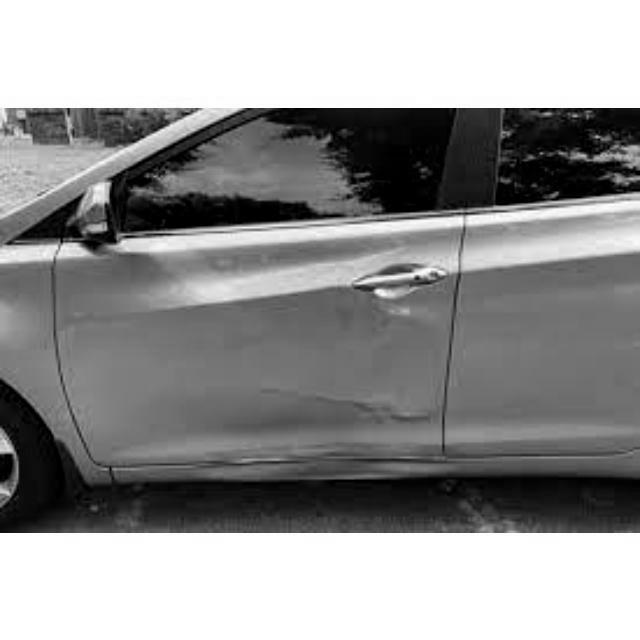Runningboard-Damage: (107, 454, 449, 486)
doorouter-dent: (64, 229, 448, 454)
